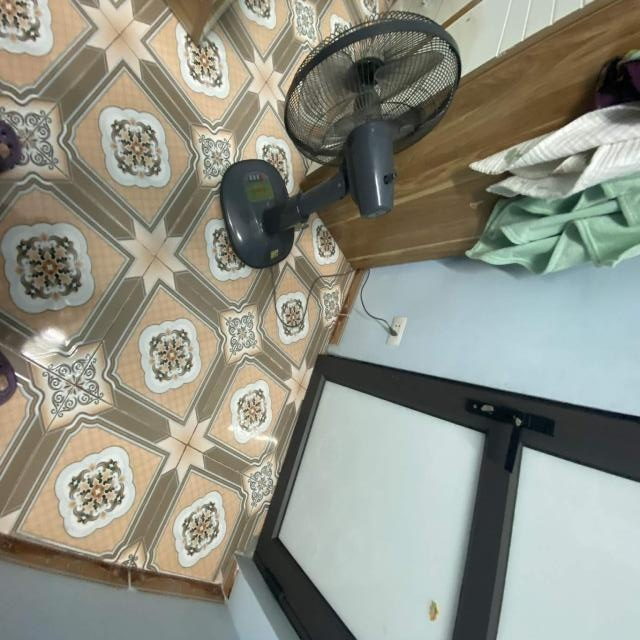outlet: (386, 315, 407, 345)
